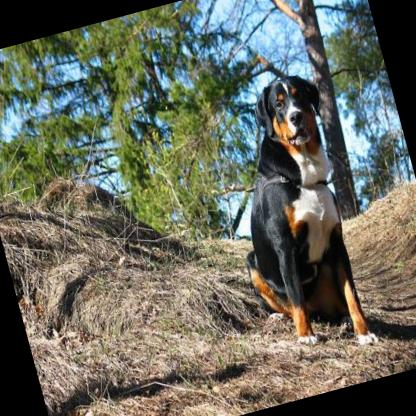Appenzeller: (198, 64, 386, 372)
